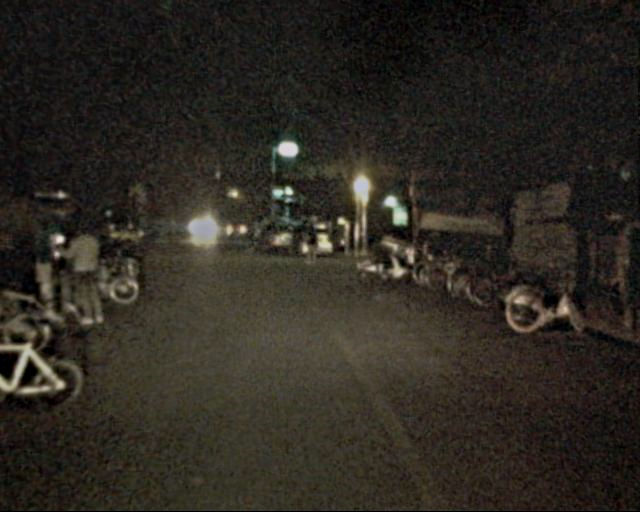person: (63, 218, 111, 330), (301, 223, 321, 267), (243, 222, 258, 259)
